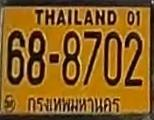0: (103, 31, 121, 85)
2: (124, 31, 143, 86)
6: (6, 30, 24, 84)
7: (83, 31, 102, 85)
8: (26, 30, 44, 84), (62, 30, 79, 84)
BKK: (23, 93, 126, 117)
